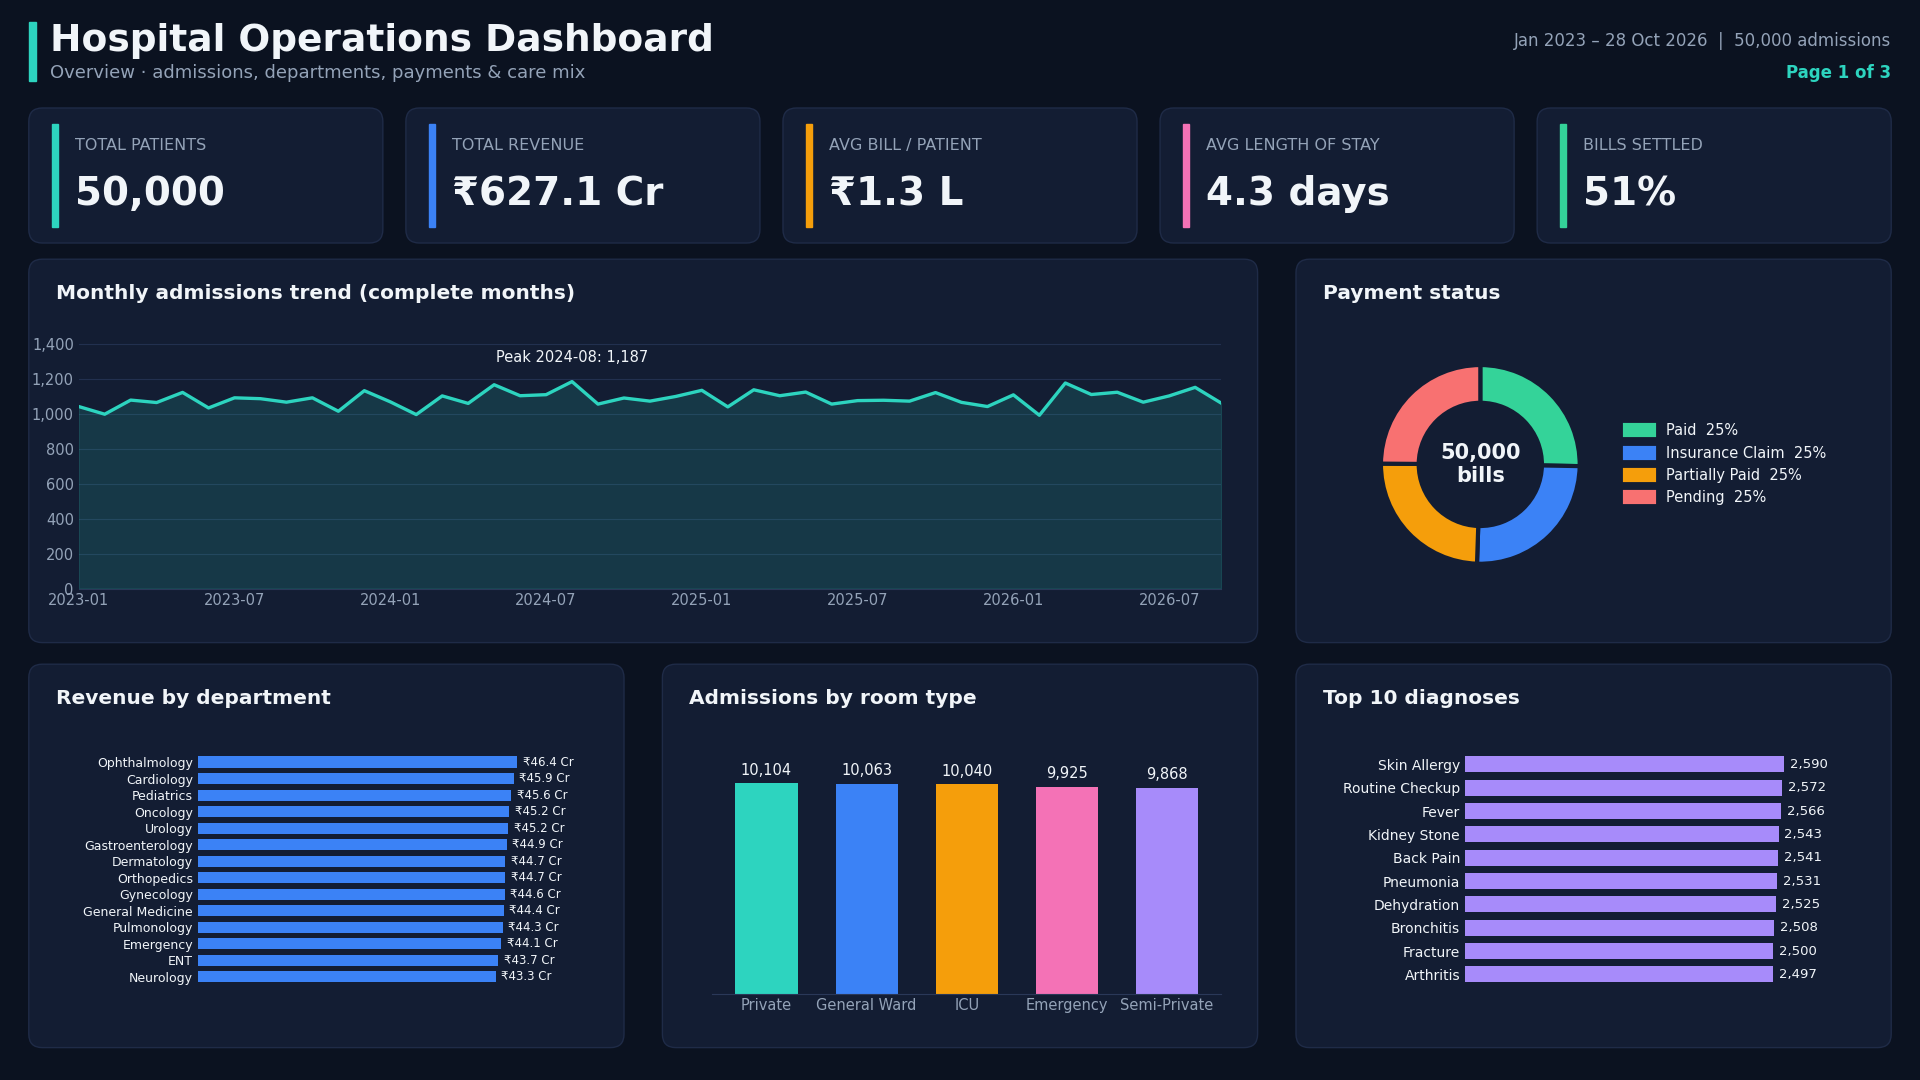

The page's visual inventory and layout, read from the dashboard file:
{"tool":"powerbi","page":{"name":"Hospital Overview","canvas":[1920,1080],"ordinal":0},"visuals":[{"type":"textbox","box":[24,14,1300,78],"z":1000},{"type":"slicer","title":"Year","fields":{"Values":["Hospital Data.Admission Date.Variation.Date Hierarchy.Year"]},"box":[24,100,302,76],"z":2000},{"type":"slicer","title":"Department","fields":{"Values":["Hospital Data.Department"]},"box":[338,100,302,76],"z":3000},{"type":"slicer","title":"City","fields":{"Values":["Hospital Data.City"]},"box":[652,100,302,76],"z":4000},{"type":"slicer","title":"Room Type","fields":{"Values":["Hospital Data.Room Type"]},"box":[966,100,302,76],"z":5000},{"type":"slicer","title":"Payment Status","fields":{"Values":["Hospital Data.Payment Status"]},"box":[1280,100,302,76],"z":6000},{"type":"slicer","title":"Gender","fields":{"Values":["Hospital Data.Gender"]},"box":[1594,100,302,76],"z":7000},{"type":"card","fields":{"Values":["CountNonNull(Hospital Data.Record ID)"]},"box":[24,188,302,124],"z":8000},{"type":"card","fields":{"Values":["Sum(Hospital Data.Bill Amount (INR))"]},"box":[338,188,302,124],"z":9000},{"type":"card","fields":{"Values":["Avg(Hospital Data.Bill Amount (INR))"]},"box":[652,188,302,124],"z":10000},{"type":"card","fields":{"Values":["Max(Hospital Data.Bill Amount (INR))"]},"box":[966,188,302,124],"z":11000},{"type":"card","fields":{"Values":["Avg(Hospital Data.Age)"]},"box":[1280,188,302,124],"z":12000},{"type":"card","fields":{"Values":["Count(Hospital Data.Doctor Name)"]},"box":[1594,188,302,124],"z":13000},{"type":"areaChart","title":"Revenue trend by month","fields":{"Category":["Hospital Data.Admission Date.Variation.Date Hierarchy.Year","Hospital Data.Admission Date.Variation.Date Hierarchy.Month"],"Y":["Sum(Hospital Data.Bill Amount (INR))"]},"box":[24,324,1100,348],"z":14000},{"type":"donutChart","title":"Payment status","fields":{"Category":["Hospital Data.Payment Status"],"Y":["CountNonNull(Hospital Data.Record ID)"]},"box":[1136,324,370,348],"z":15000},{"type":"donutChart","title":"Gender split","fields":{"Category":["Hospital Data.Gender"],"Y":["CountNonNull(Hospital Data.Record ID)"]},"box":[1518,324,378,348],"z":16000},{"type":"clusteredBarChart","title":"Revenue by department","fields":{"Category":["Hospital Data.Department"],"Y":["Sum(Hospital Data.Bill Amount (INR))"]},"box":[24,684,459,372],"z":17000},{"type":"clusteredColumnChart","title":"Patients by room type","fields":{"Category":["Hospital Data.Room Type"],"Y":["CountNonNull(Hospital Data.Record ID)"]},"box":[495,684,459,372],"z":18000},{"type":"clusteredBarChart","title":"Revenue by city","fields":{"Category":["Hospital Data.City"],"Y":["Sum(Hospital Data.Bill Amount (INR))"]},"box":[966,684,459,372],"z":19000},{"type":"clusteredBarChart","title":"Patients by doctor","fields":{"Category":["Hospital Data.Doctor Name"],"Y":["CountNonNull(Hospital Data.Record ID)"]},"box":[1437,684,459,372],"z":20000}]}

Visuals, with their boxes in screenshot pixels (x1, y1, x2, y2), scaled from the page's 1920x1080 canvas onto the 1920x1080 screenshot:
textbox: [24,14,1324,92]
"Year" slicer: [24,100,326,176]
"Department" slicer: [338,100,640,176]
"City" slicer: [652,100,954,176]
"Room Type" slicer: [966,100,1268,176]
"Payment Status" slicer: [1280,100,1582,176]
"Gender" slicer: [1594,100,1896,176]
card - CountNonNull(Hospital Data.Record ID): [24,188,326,312]
card - Sum(Hospital Data.Bill Amount (INR)): [338,188,640,312]
card - Avg(Hospital Data.Bill Amount (INR)): [652,188,954,312]
card - Max(Hospital Data.Bill Amount (INR)): [966,188,1268,312]
card - Avg(Hospital Data.Age): [1280,188,1582,312]
card - Count(Hospital Data.Doctor Name): [1594,188,1896,312]
"Revenue trend by month" areaChart: [24,324,1124,672]
"Payment status" donutChart: [1136,324,1506,672]
"Gender split" donutChart: [1518,324,1896,672]
"Revenue by department" clusteredBarChart: [24,684,483,1056]
"Patients by room type" clusteredColumnChart: [495,684,954,1056]
"Revenue by city" clusteredBarChart: [966,684,1425,1056]
"Patients by doctor" clusteredBarChart: [1437,684,1896,1056]
